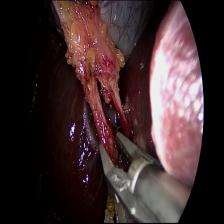Clipper: (94, 120, 166, 223)
